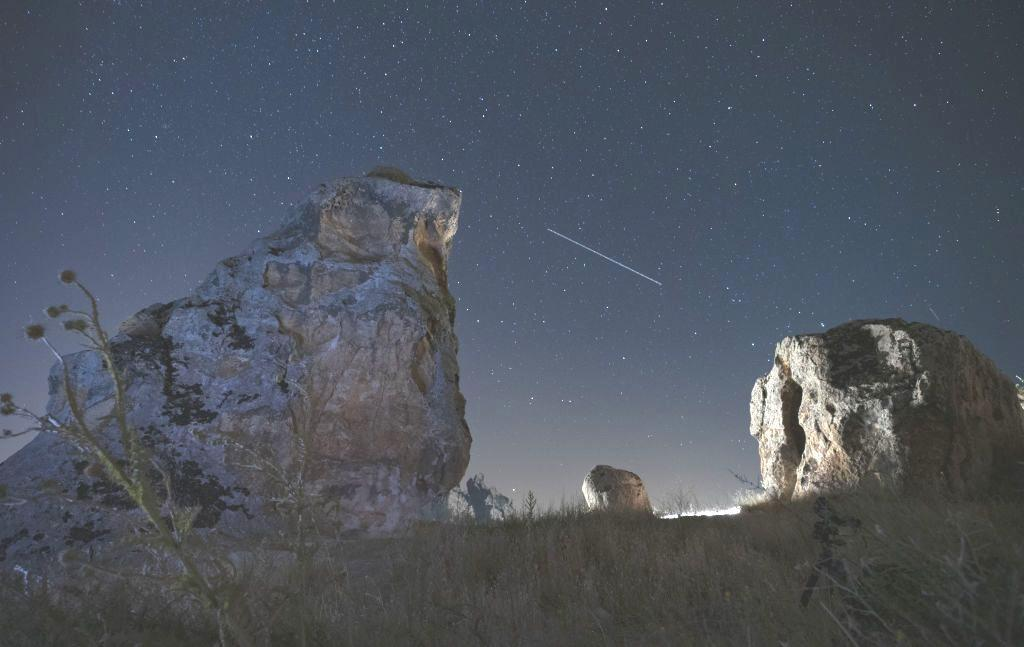meteorite: (538, 216, 680, 294)
